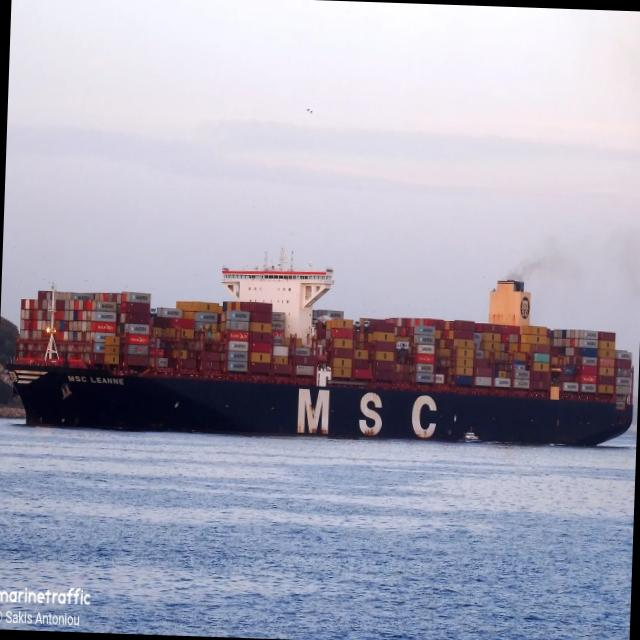Cargo: (10, 268, 633, 445)
